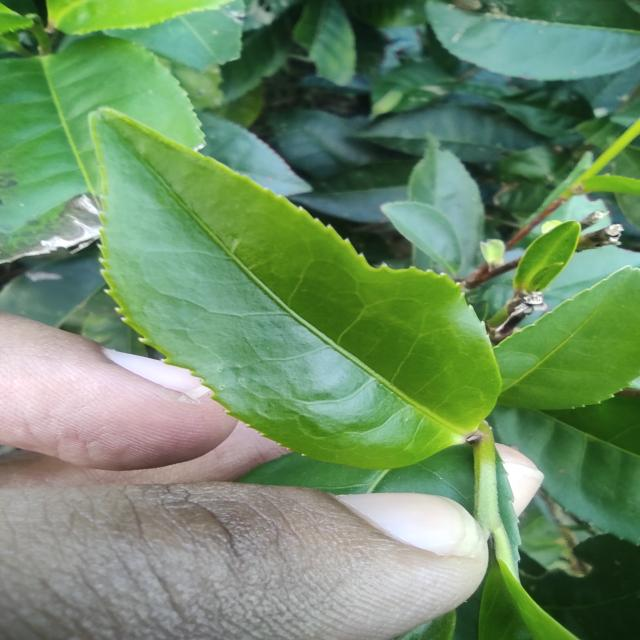Category C(4-7 days): (42, 66, 539, 506)
